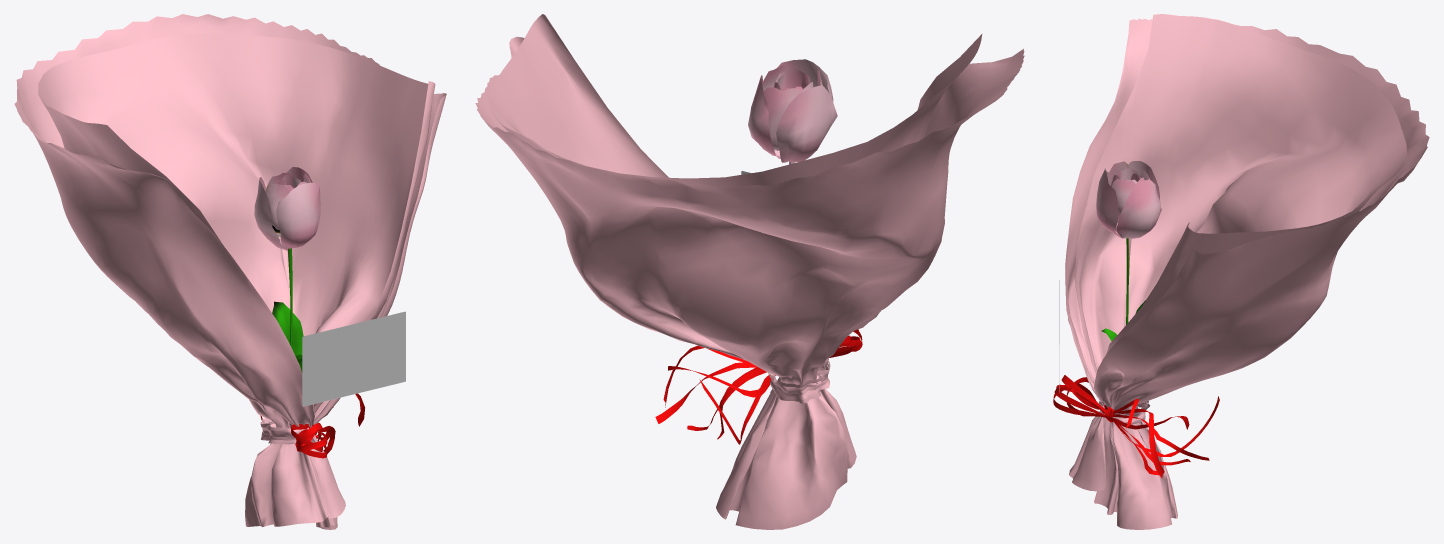
3 renders of one model, left to right at view 1: azimuth 30°, elevation 25°; view 2: azimuth 150°, elevation 25°; view 3: azimuth 270°, elevation 25°, orthographic. The views are drawn at different scales.
Parts seen in each view (by area): view 1: inner, outer, card_texture_0, Geometry, ribbon, parcel_knot; view 2: outer, inner, Geometry, ribbon, parcel_knot; view 3: inner, outer, Geometry, ribbon.
Boxes of the visible parts, bbox=[...] form: inner: bbox=[38, 32, 435, 428]; outer: bbox=[14, 14, 446, 529]; card_texture_0: bbox=[302, 311, 405, 406]; Geometry: bbox=[254, 167, 320, 372]; ribbon: bbox=[260, 393, 364, 458]; parcel_knot: bbox=[260, 418, 308, 444]; outer: bbox=[475, 36, 1024, 529]; inner: bbox=[488, 14, 982, 187]; Geometry: bbox=[748, 59, 837, 164]; ribbon: bbox=[655, 329, 862, 444]; parcel_knot: bbox=[767, 358, 830, 403]; inner: bbox=[1074, 14, 1407, 376]; outer: bbox=[1065, 18, 1429, 529]; Geometry: bbox=[1096, 161, 1161, 341]; ribbon: bbox=[1053, 375, 1219, 478].
Bounding box in the file's own units: 1.81 × 1.9 × 1.55.
8 materials, 1 textured.
